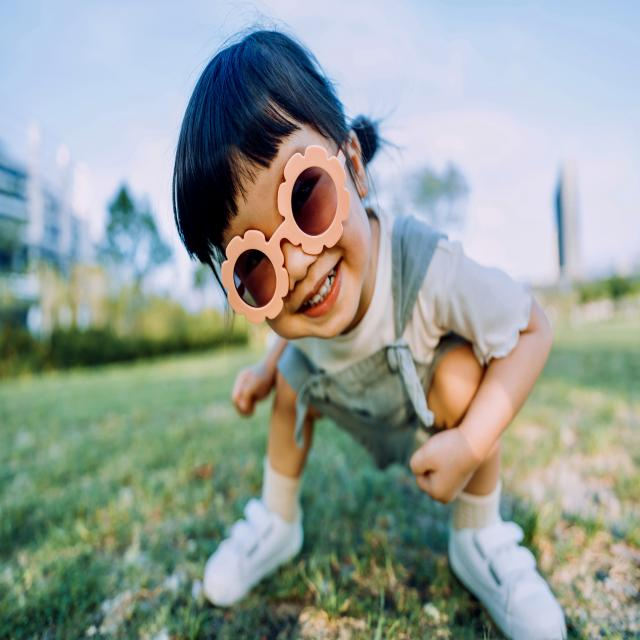child: (172, 23, 566, 640)
